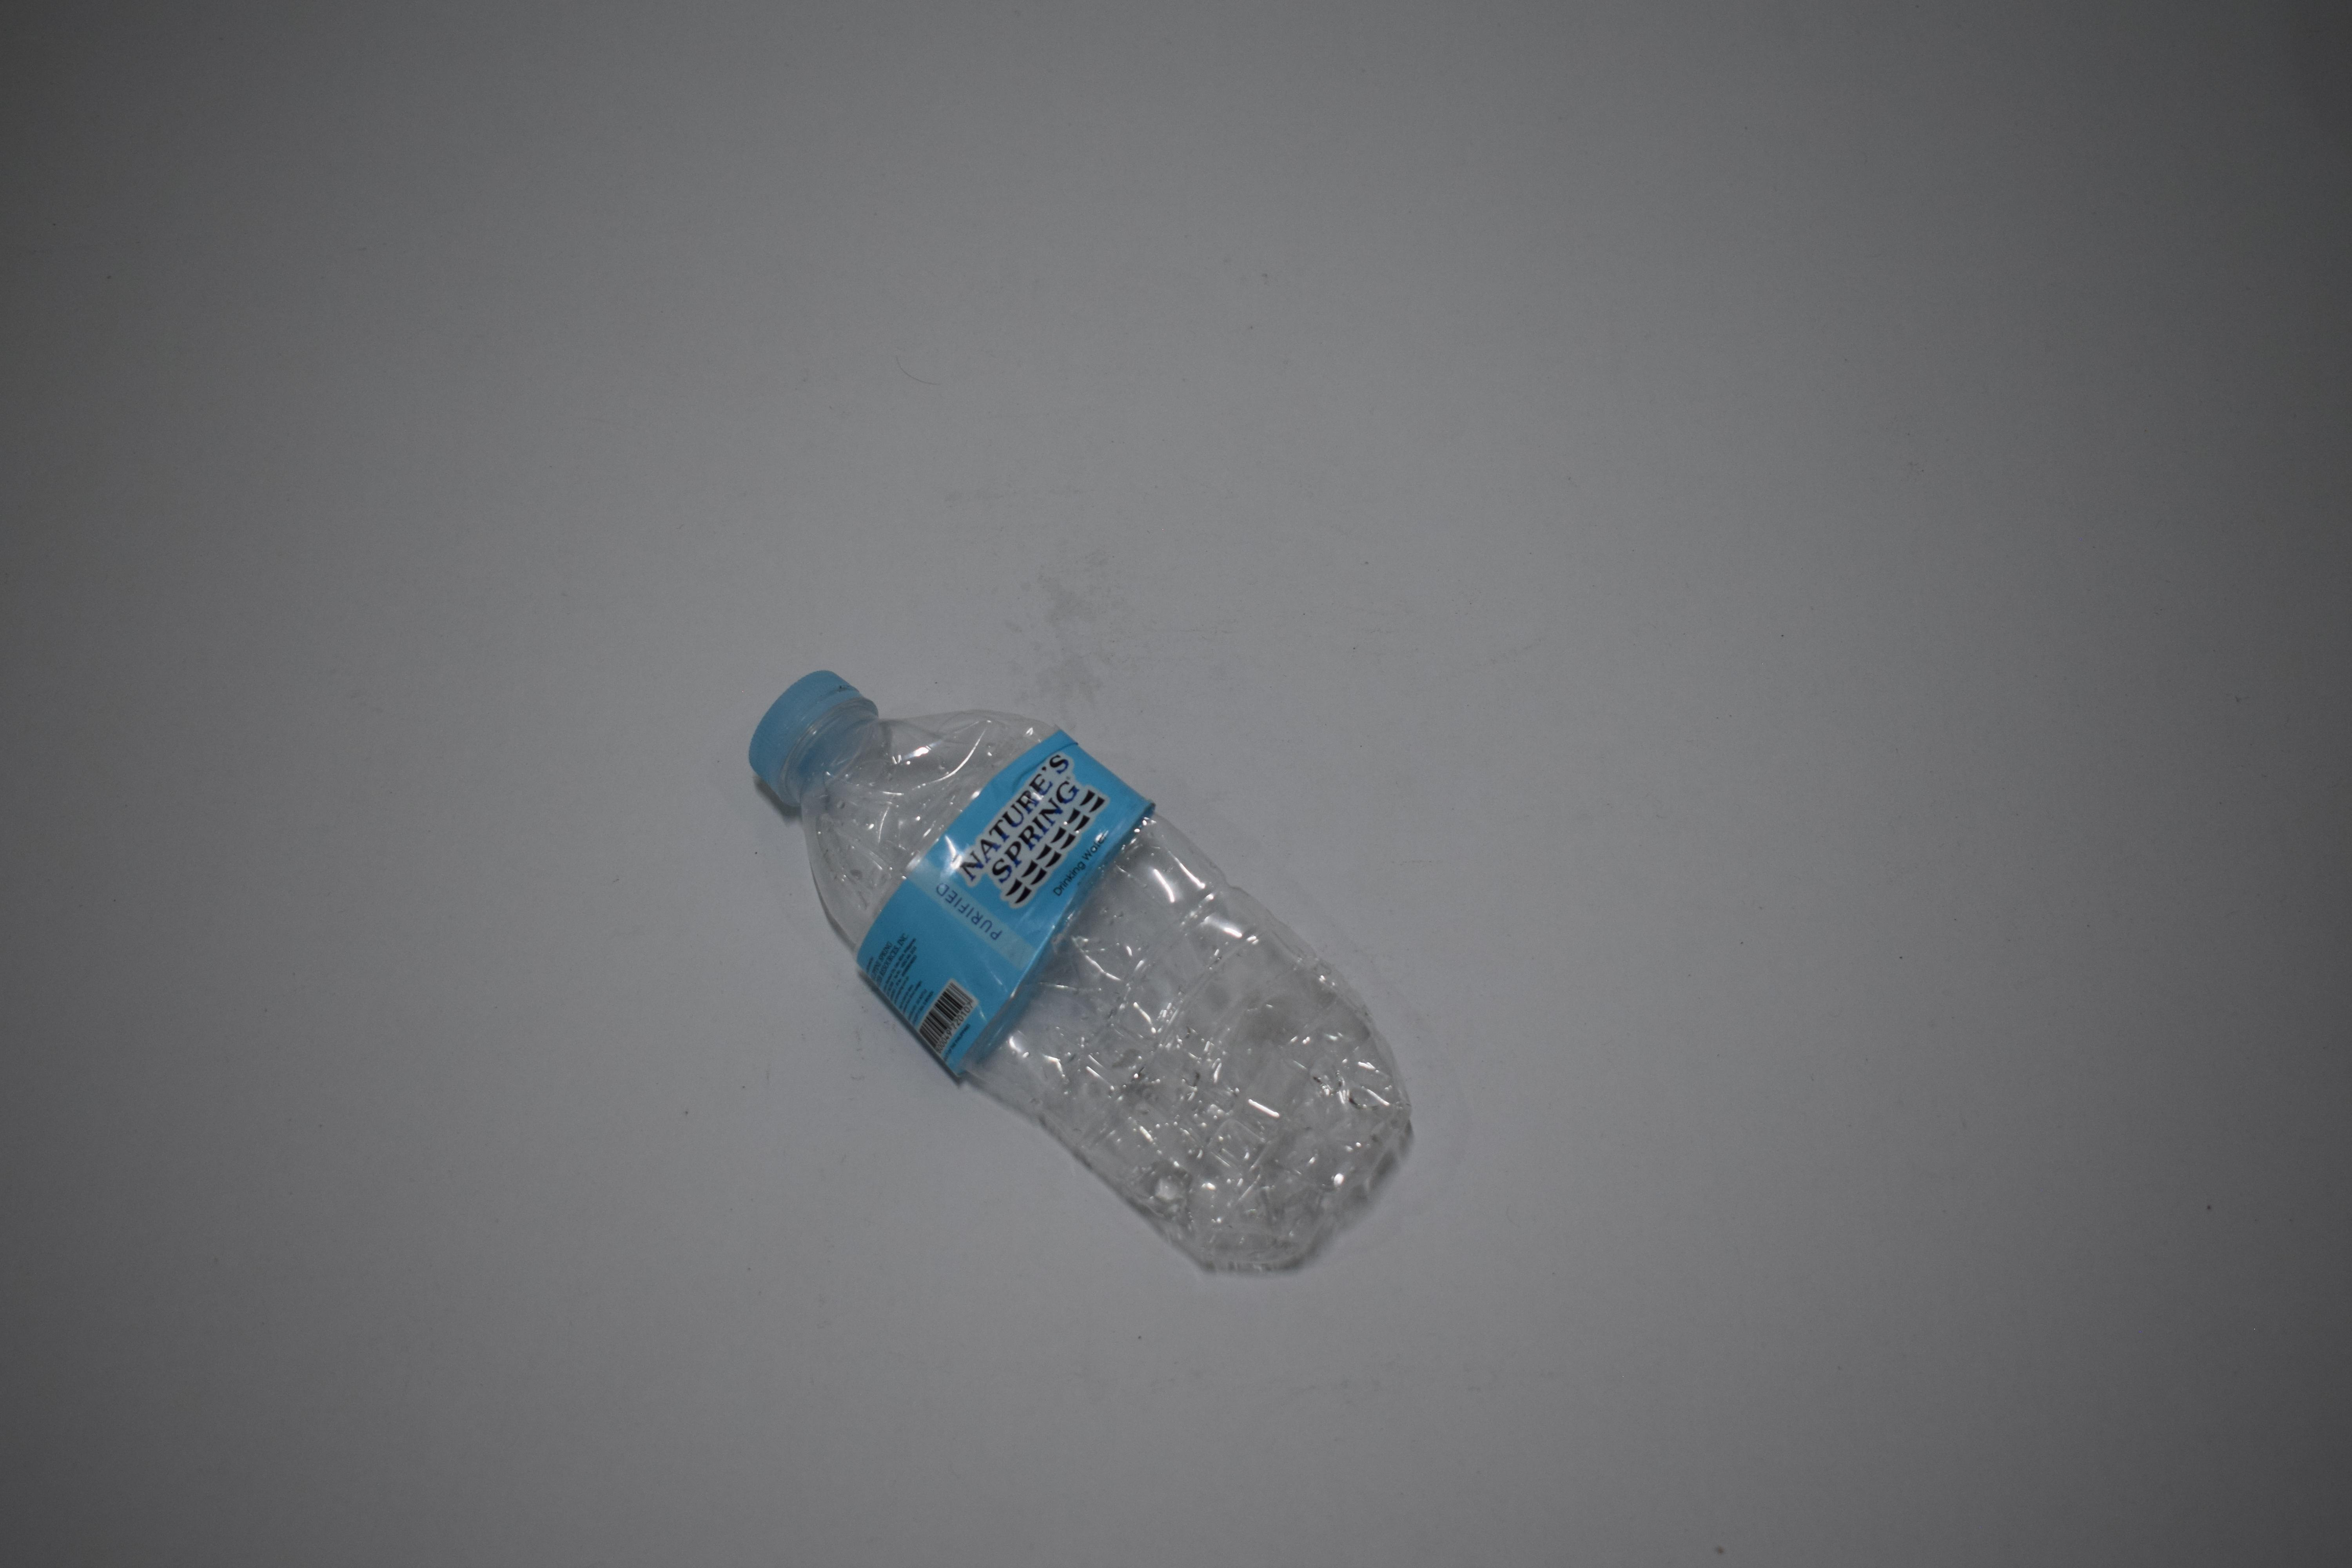bottle: (749, 663, 1423, 1284)
